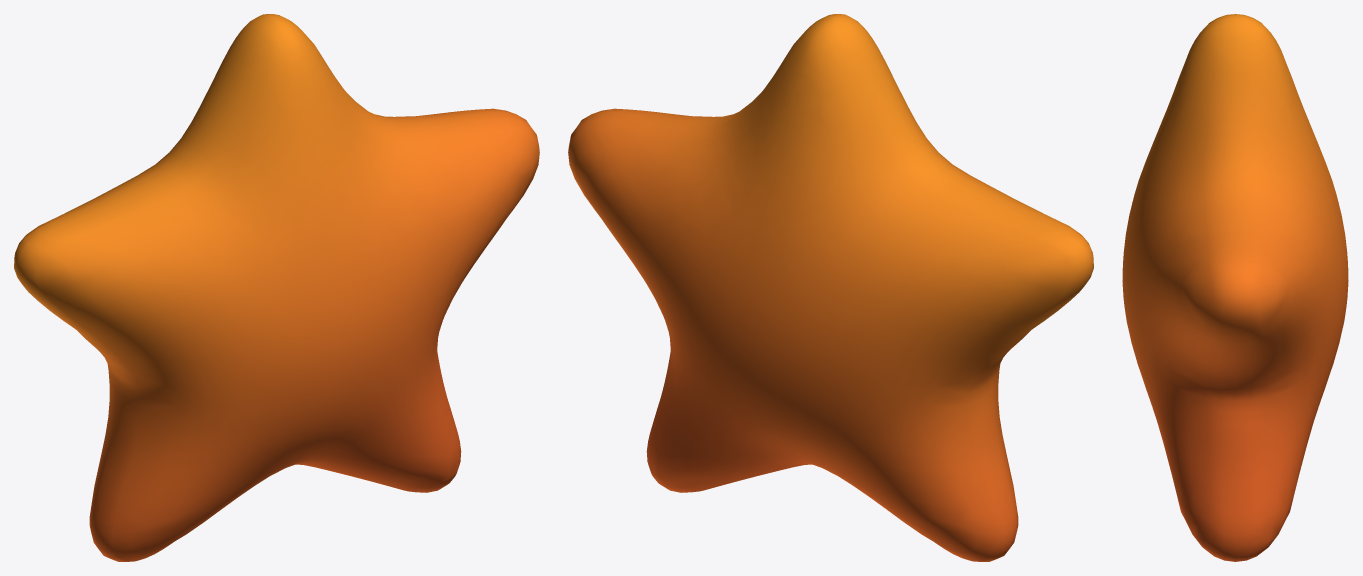
Rendered from Star.glb.
3 renders of one model, left to right at view 1: azimuth 30°, elevation 25°; view 2: azimuth 150°, elevation 25°; view 3: azimuth 270°, elevation 25°, orthographic. The views are drawn at different scales.
Parts seen in each view (by area): view 1: star.1; view 2: star.1; view 3: star.1.
Boxes of the visible parts, box(x1,y1,x2,y2) form: star.1: box(14, 14, 539, 561); star.1: box(568, 14, 1093, 561); star.1: box(1122, 14, 1348, 561).
Bounding box in the file's own units: 0.1907 × 0.1787 × 0.0773.
1 material, 1 textured.
